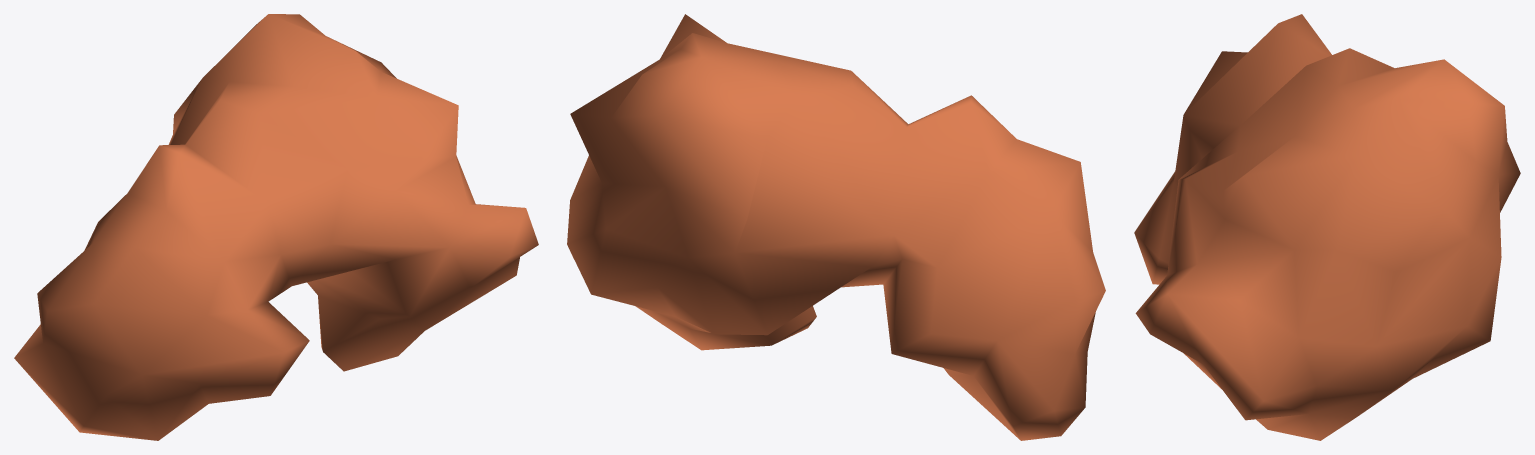
File: Mgenitalium_ftsH_1lv7_0_1_0.dae
3 views of the same model, side by side, from view 1: azimuth 30°, elevation 25°; view 2: azimuth 150°, elevation 25°; view 3: azimuth 270°, elevation 25° (orthographic). The views are drawn at different scales.
Visible parts, largest first — view 1: _1lv7ACMS; view 2: _1lv7ACMS; view 3: _1lv7ACMS.
Part boxes in pixels (x1=…): _1lv7ACMS: x1=14, y1=14, x2=538, y2=440; _1lv7ACMS: x1=567, y1=14, x2=1105, y2=440; _1lv7ACMS: x1=1134, y1=14, x2=1520, y2=440.
Size of the model in its own units: 71.87 by 47.47 by 45.98.
